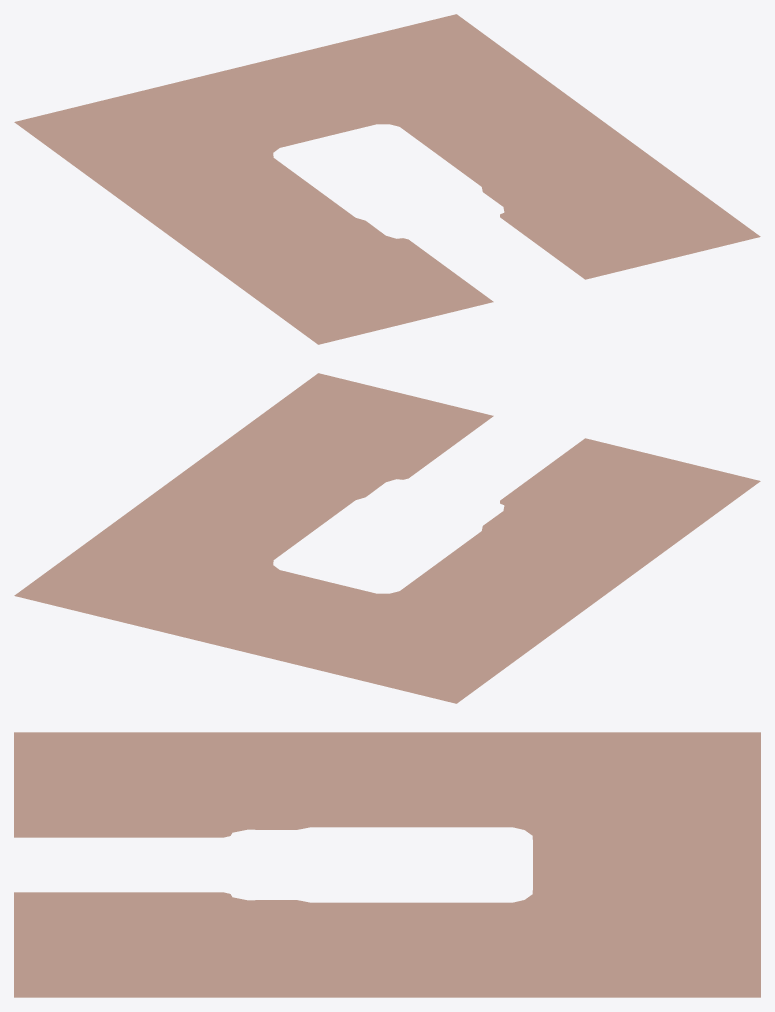
Rendered from ground_4.fbx.
The picture shows the model from 3 angles, top to bottom: view 1: azimuth 30°, elevation 25°; view 2: azimuth 150°, elevation 25°; view 3: azimuth 270°, elevation 25°; orthographic projection. The views are drawn at different scales.
Parts seen in each view (by area): view 1: ground_4; view 2: ground_4; view 3: ground_4.
Part boxes in pixels (box(x1,y1,x2,y2)): ground_4: box(14, 14, 760, 344); ground_4: box(14, 373, 760, 703); ground_4: box(14, 732, 760, 997).
Size of the model in its own units: 6132 by 0.00119 by 7303.
